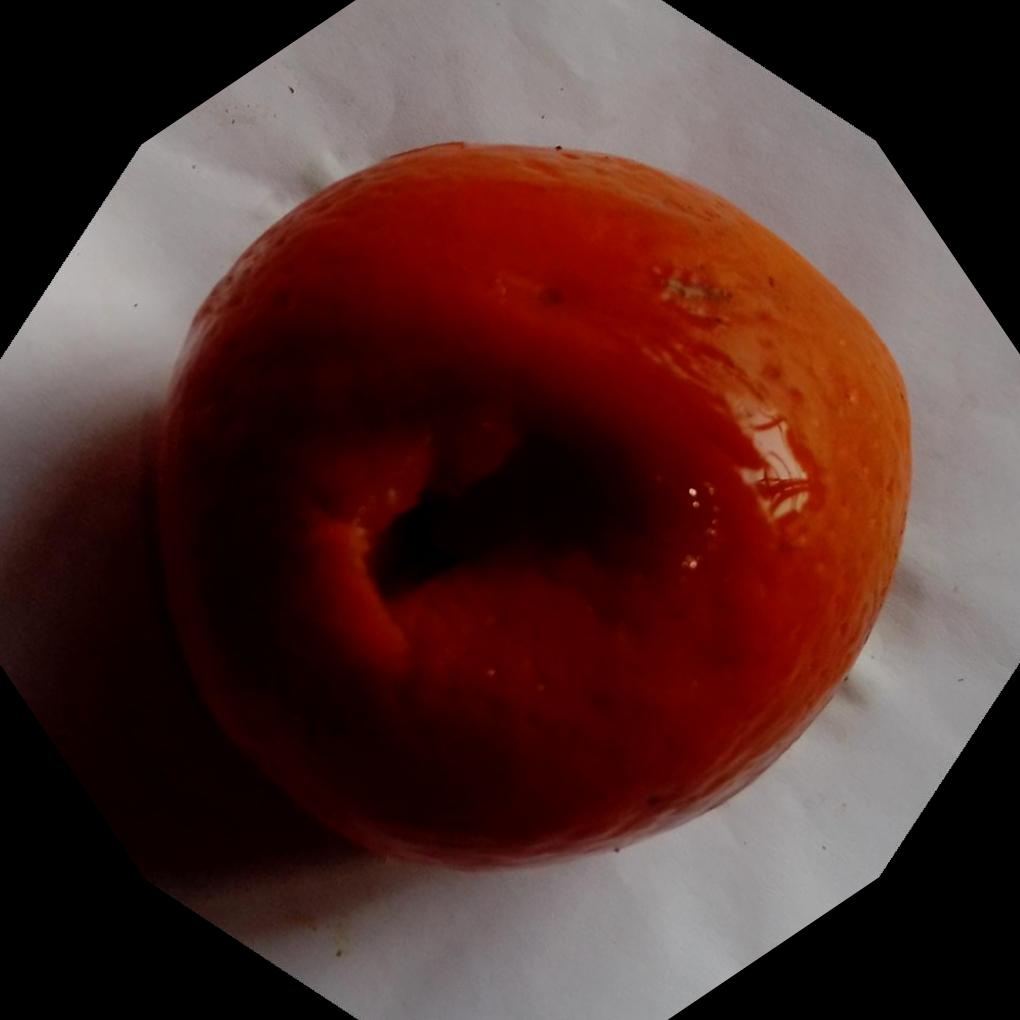FreshOrange: (139, 140, 912, 876)
